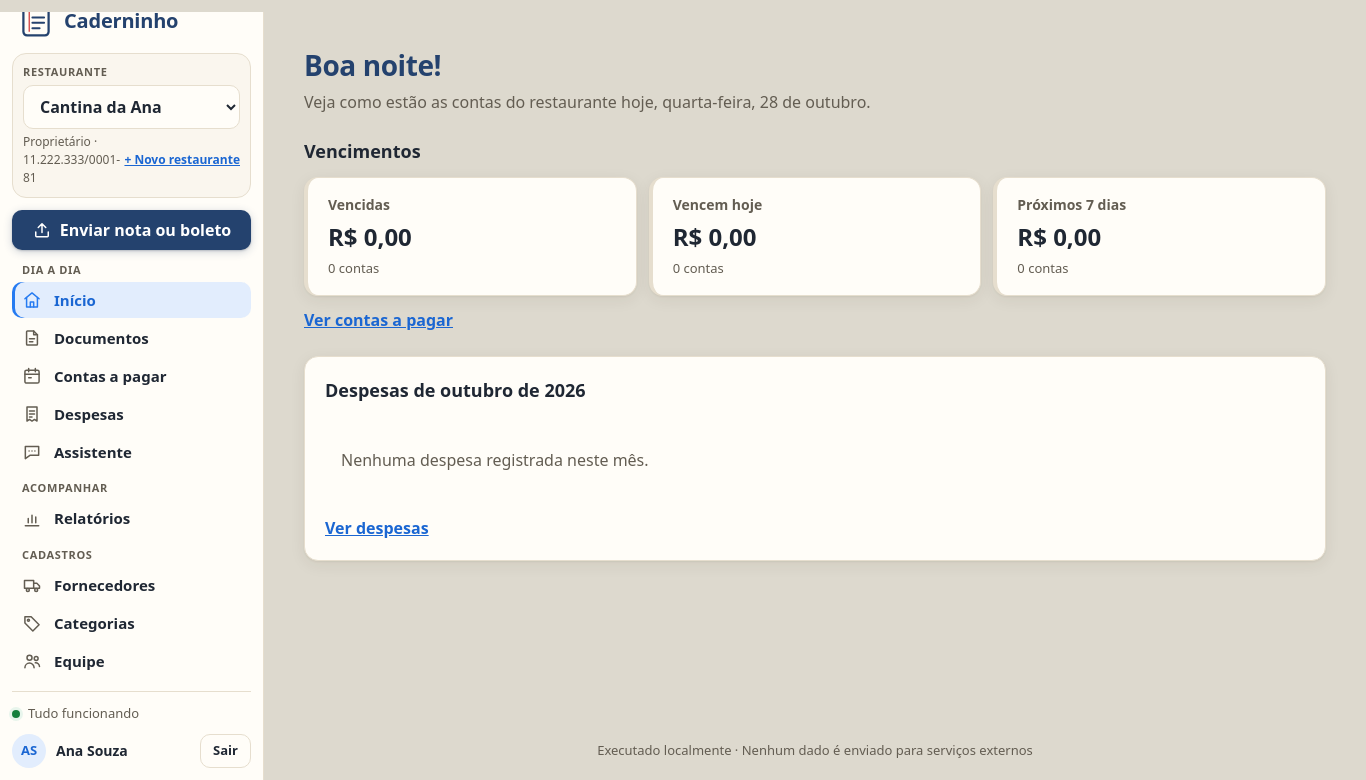
Test case: Acesso › sai da conta e volta para o login
(page scrolled)
What coordinates should you click on to do the following:
click the button "Sair"
I would click on:
 (226, 750)
Its box is [200,734,251,768].
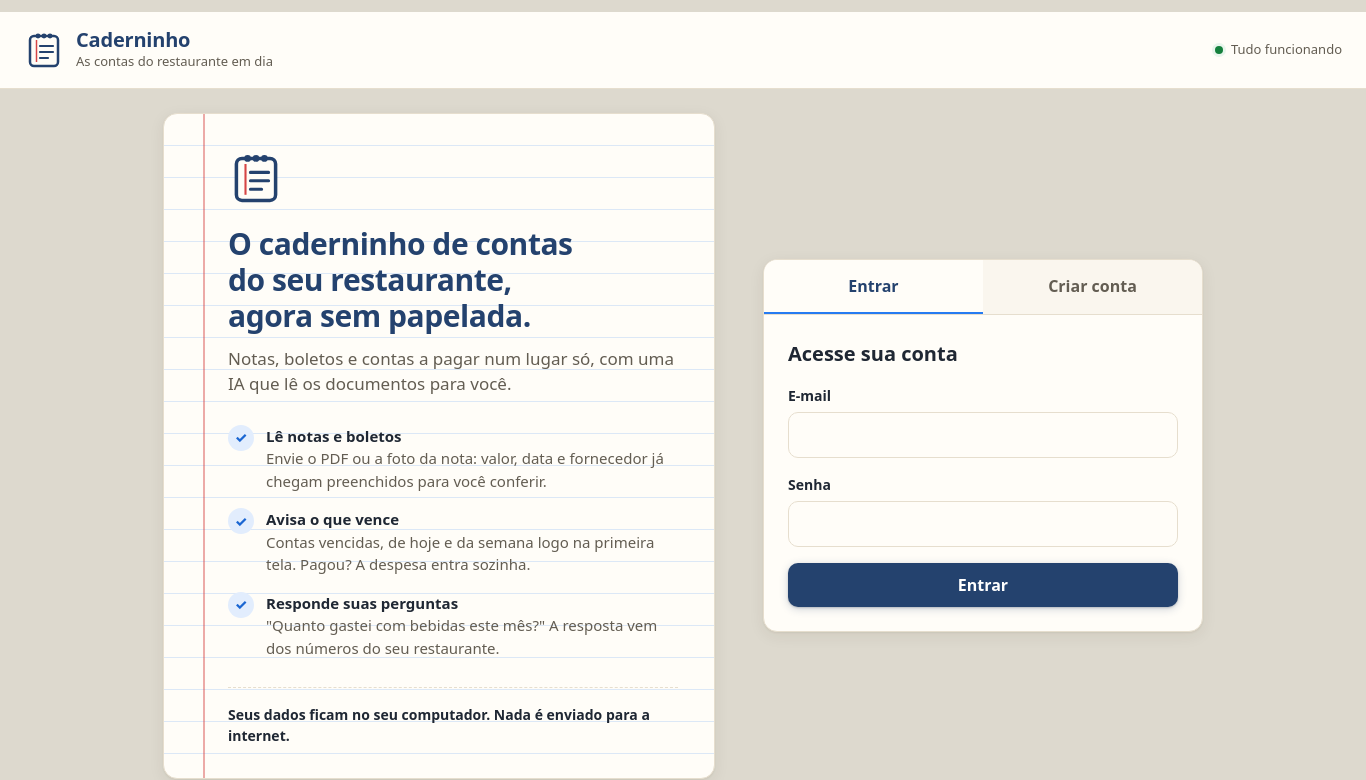
Result: the heading "Acesse sua conta" is shown at [788,340,958,367]
